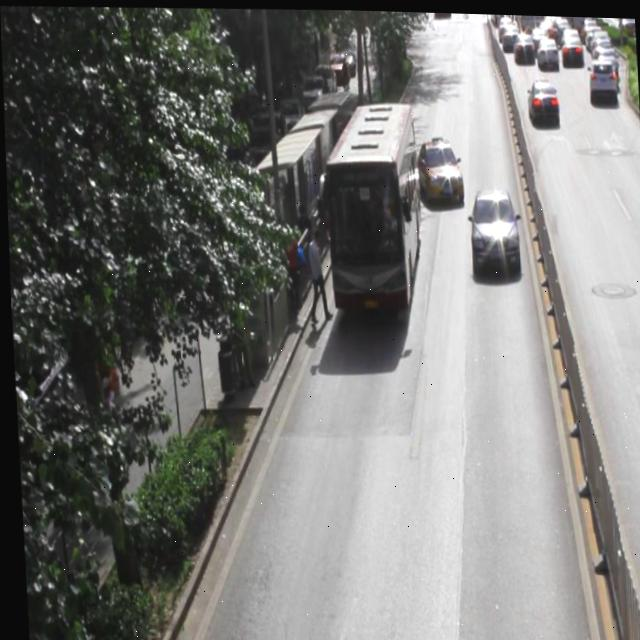car: (466, 183, 516, 267), (413, 135, 460, 202)
van: (319, 99, 421, 309)
